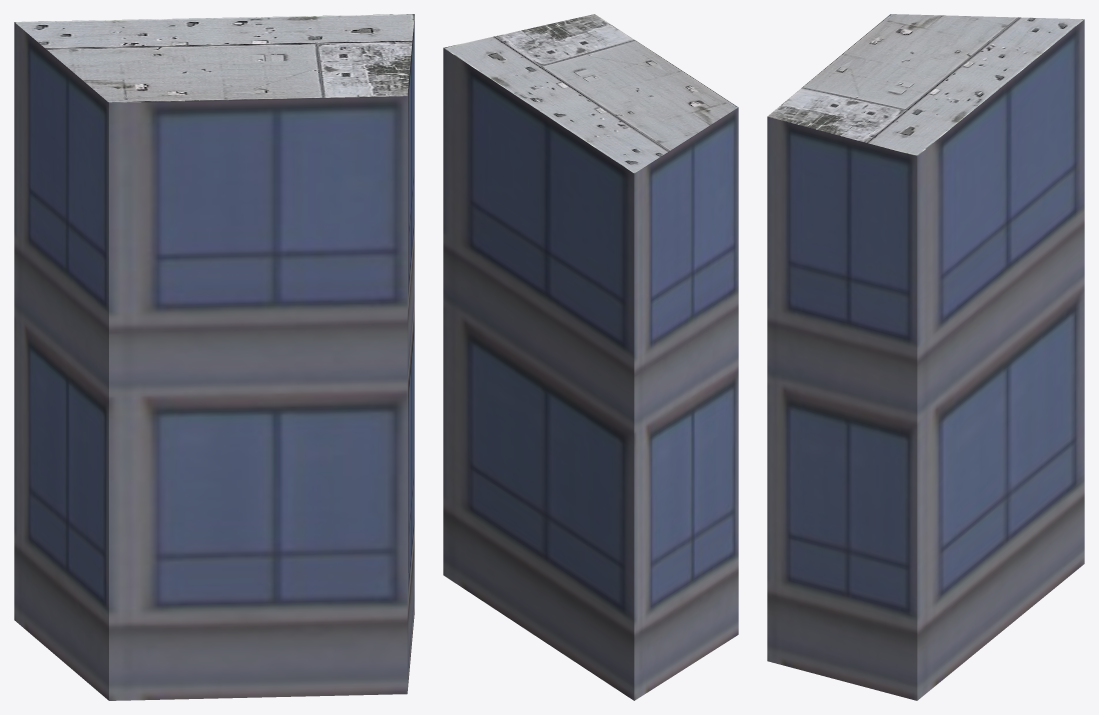
File: RelTex__18.fbx
The picture shows the model from 3 angles, left to right: view 1: azimuth 30°, elevation 25°; view 2: azimuth 150°, elevation 25°; view 3: azimuth 270°, elevation 25°; orthographic projection. The views are drawn at different scales.
Parts seen in each view (by area): view 1: CityEngineMaterial_1_m, CityEngineMaterial_27_m; view 2: CityEngineMaterial_1_m, CityEngineMaterial_27_m; view 3: CityEngineMaterial_1_m, CityEngineMaterial_27_m.
Boxes of the visible parts, left/top/right/bottom form: CityEngineMaterial_1_m: left=14, top=17, right=414, bottom=700; CityEngineMaterial_27_m: left=14, top=14, right=414, bottom=102; CityEngineMaterial_1_m: left=443, top=48, right=738, bottom=700; CityEngineMaterial_27_m: left=443, top=14, right=738, bottom=173; CityEngineMaterial_1_m: left=767, top=19, right=1084, bottom=700; CityEngineMaterial_27_m: left=767, top=14, right=1083, bottom=156.
Bounding box in the file's own units: 3.36 × 6 × 3.17.
Materials: 2 (2 with a texture image).
